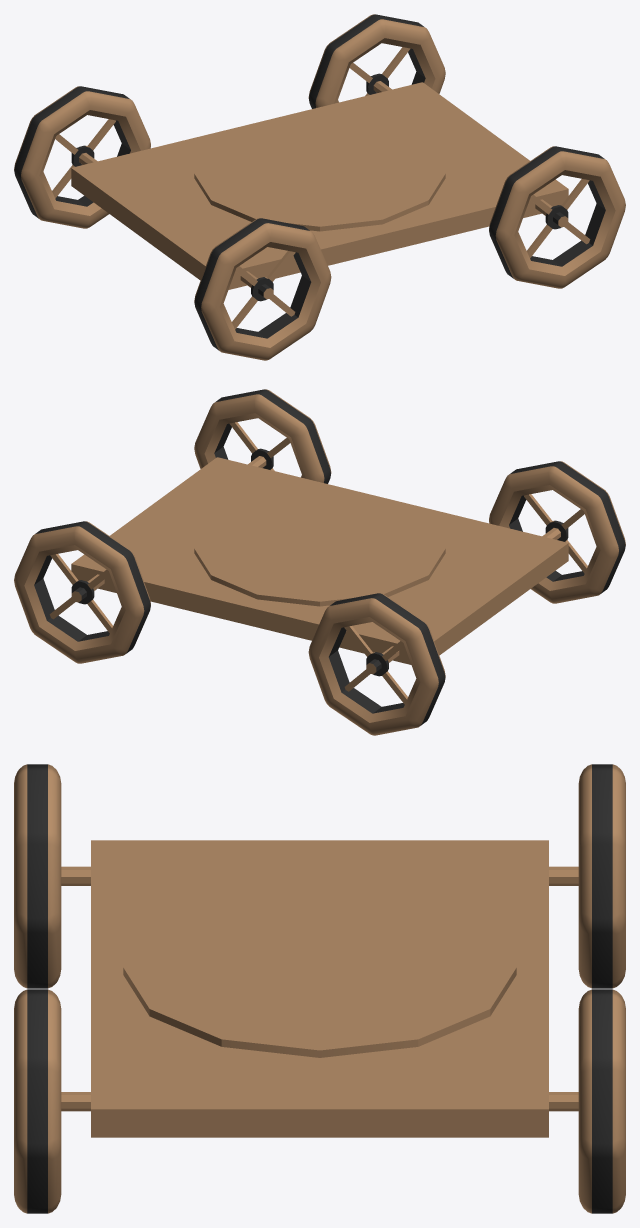
The model's file is Canon_bottom.fbx.
The picture shows the model from 3 angles, top to bottom: view 1: azimuth 30°, elevation 25°; view 2: azimuth 150°, elevation 25°; view 3: azimuth 270°, elevation 25°; orthographic projection. The views are drawn at different scales.
Parts seen in each view (by area): view 1: top altı.001; view 2: top altı.001; view 3: top altı.001.
Boxes of the visible parts, x1=… form: top altı.001: x1=14, y1=14, x2=625, y2=360; top altı.001: x1=14, y1=389, x2=625, y2=735; top altı.001: x1=14, y1=764, x2=625, y2=1213.
Bounding box in the file's own units: 3.36 × 1.04 × 2.67.
